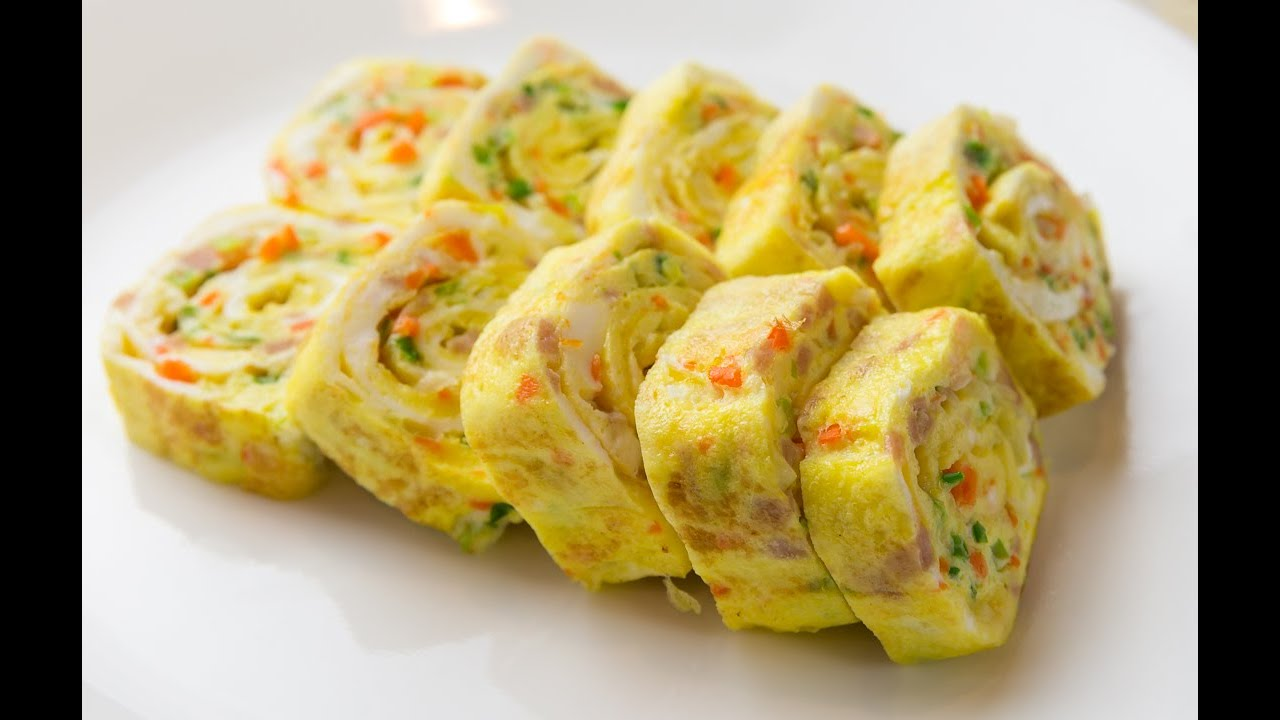gyelanmal-i: (85, 32, 1131, 670)
